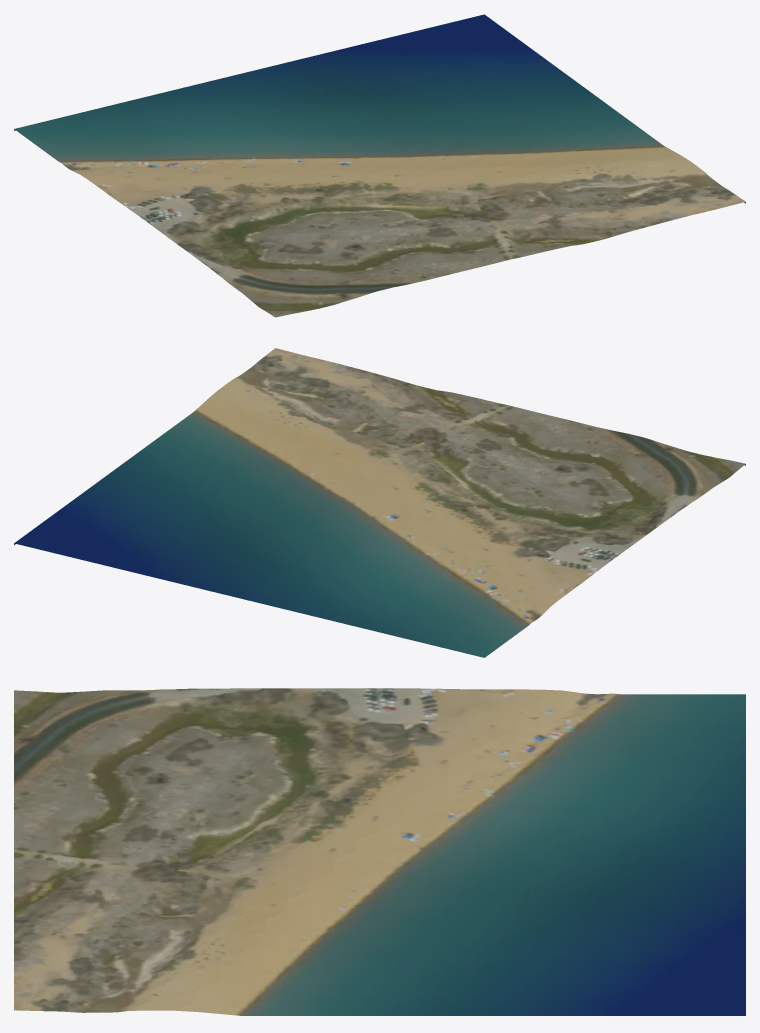
The picture shows the model from 3 angles, top to bottom: view 1: azimuth 30°, elevation 25°; view 2: azimuth 150°, elevation 25°; view 3: azimuth 270°, elevation 25°; orthographic projection. The views are drawn at different scales.
Bounding box in the file's own units: 250 × 3.36 × 241.
1 material, 1 textured.
